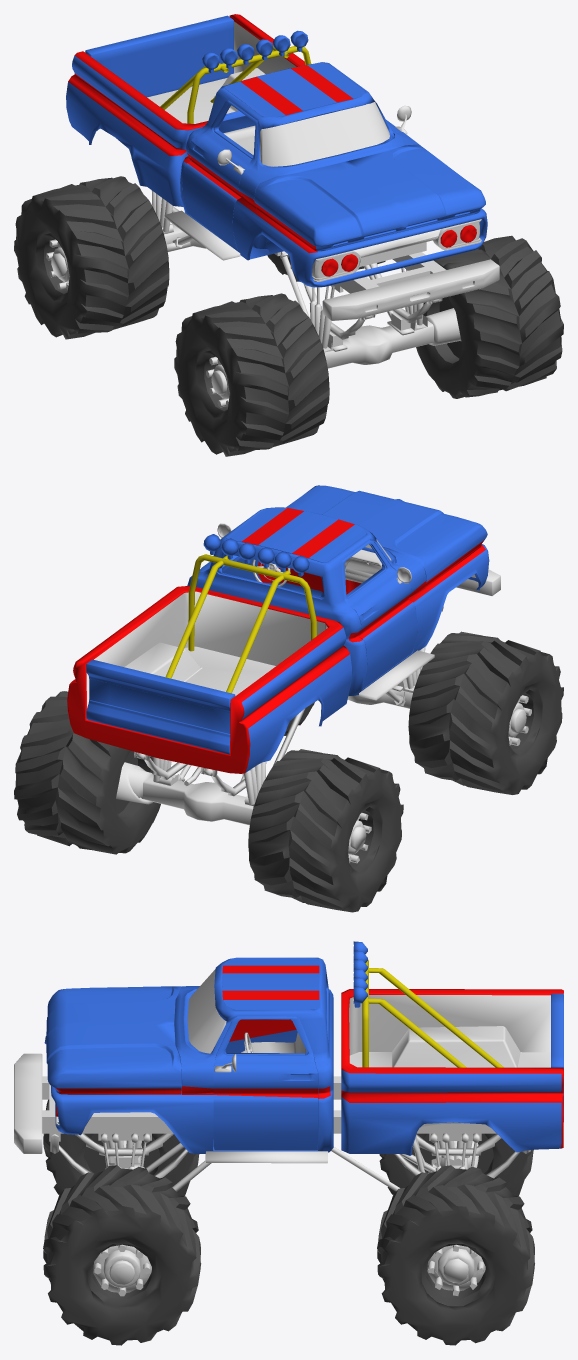
Rendered from Car_Opt_Materialonly.fbx.
3 renders of one model, top to bottom at view 1: azimuth 30°, elevation 25°; view 2: azimuth 150°, elevation 25°; view 3: azimuth 270°, elevation 25°, orthographic. The views are drawn at different scales.
Parts seen in each view (by area): view 1: object5, Object191, BodyC10.084, Object189, BodyC10.074, Object183; view 2: object5, Object191, BodyC10.084, BodyC10.080, BodyC10.074, Object183; view 3: object5, BodyC10.080, Object189, BodyC10.074, Object182, BodyC10.084, Object191, Object183.
Part boxes in pixels (x1,y1,x2,y2): object5: [46, 14, 499, 407]; Object191: [14, 176, 169, 339]; BodyC10.084: [174, 293, 329, 456]; Object189: [416, 235, 563, 398]; BodyC10.074: [254, 144, 485, 251]; Object183: [182, 100, 257, 249]; object5: [67, 507, 531, 863]; Object191: [248, 749, 403, 912]; BodyC10.084: [408, 631, 563, 794]; BodyC10.080: [14, 691, 160, 854]; BodyC10.074: [286, 485, 487, 588]; Object183: [341, 540, 417, 688]; object5: [14, 941, 563, 1296]; BodyC10.080: [377, 1165, 534, 1345]; Object189: [43, 1165, 201, 1345]; BodyC10.074: [44, 986, 181, 1094]; Object182: [213, 1016, 318, 1150]; BodyC10.084: [43, 1099, 199, 1196]; Object191: [379, 1133, 533, 1196]; Object183: [225, 1019, 297, 1052].
Size of the model in its own units: 242 by 206 by 340.
